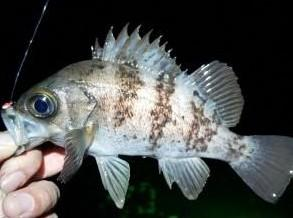fish: (2, 23, 292, 208)
